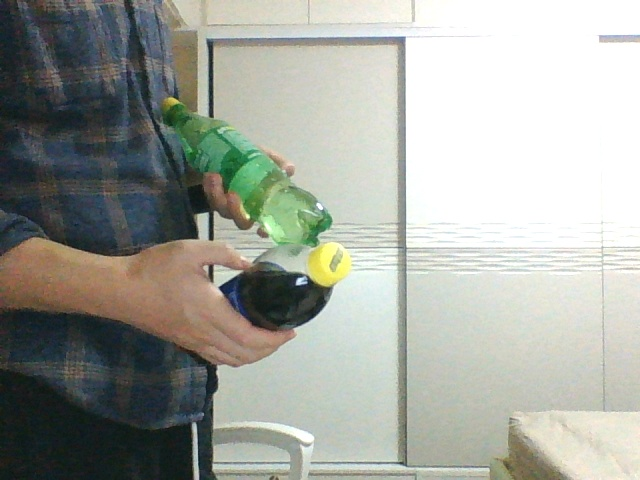Cola: (217, 241, 351, 320)
Sprite: (159, 98, 328, 247)
